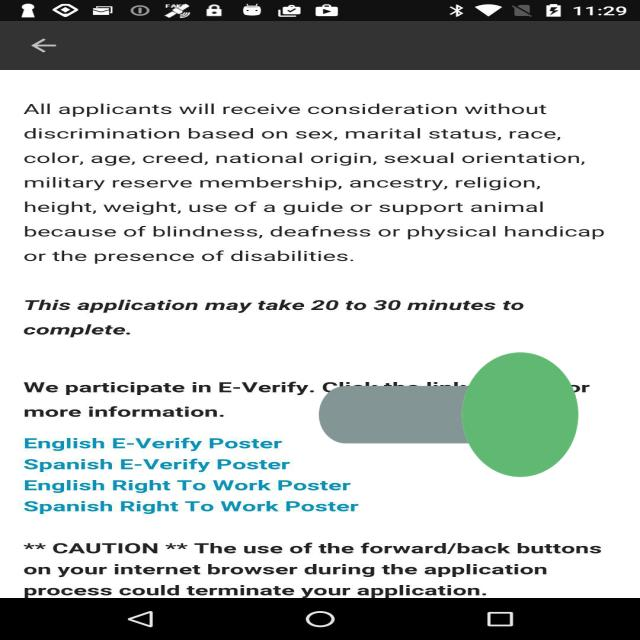social proof: (319, 276, 578, 554)
